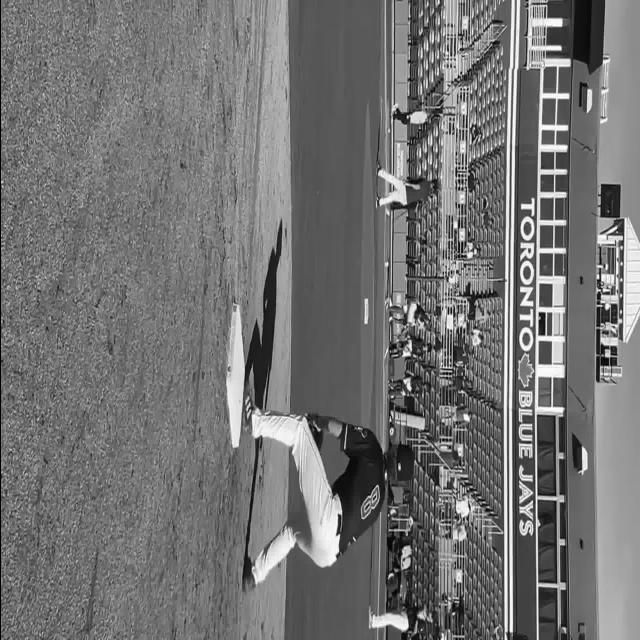base: (225, 296, 247, 450)
baseball_glove: (304, 412, 322, 451)
shoe: (240, 380, 252, 435), (242, 556, 256, 592), (368, 605, 373, 629), (374, 193, 380, 208), (392, 102, 398, 114), (376, 159, 380, 175)
